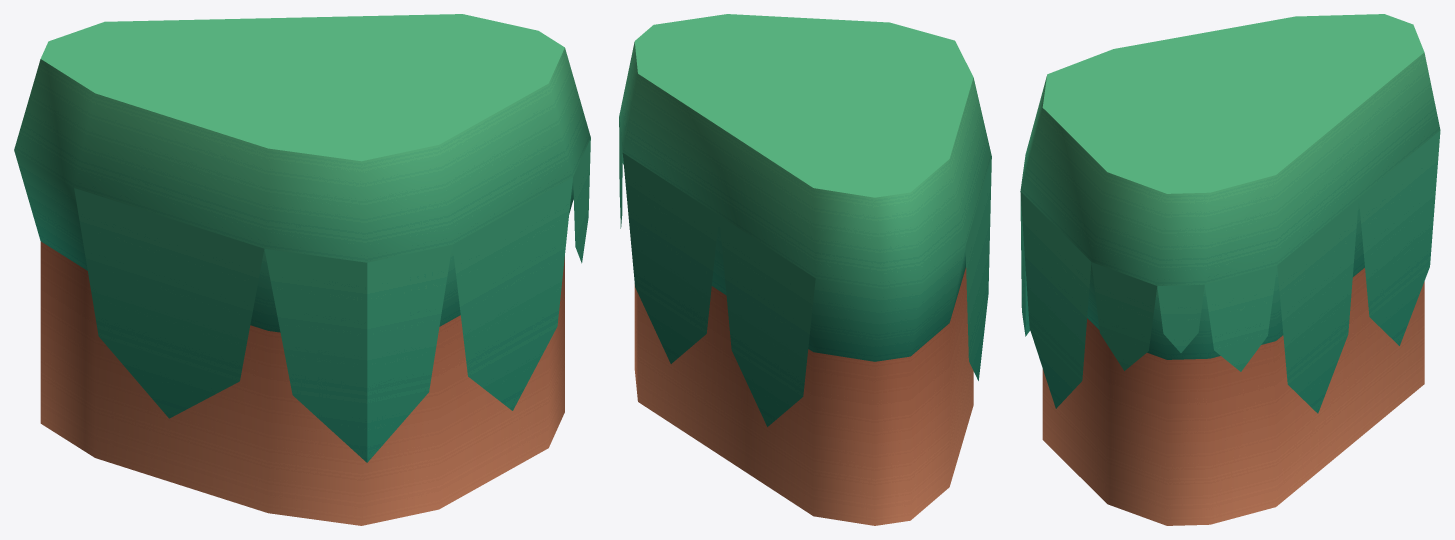
File: block-grass-corner-overhang-low.013_lev2.glb
3 renders of one model, left to right at view 1: azimuth 30°, elevation 25°; view 2: azimuth 150°, elevation 25°; view 3: azimuth 270°, elevation 25°, orthographic. The views are drawn at different scales.
Visible parts, largest first — view 1: block-grass-corner-overhang-low.013_lev2; view 2: block-grass-corner-overhang-low.013_lev2; view 3: block-grass-corner-overhang-low.013_lev2.
Boxes of the visible parts, x1=… form: block-grass-corner-overhang-low.013_lev2: x1=14, y1=14, x2=590, y2=525; block-grass-corner-overhang-low.013_lev2: x1=619, y1=14, x2=991, y2=525; block-grass-corner-overhang-low.013_lev2: x1=1020, y1=14, x2=1440, y2=525.
Size of the model in its own units: 2.23 by 1.74 by 2.
1 material, 1 textured.
